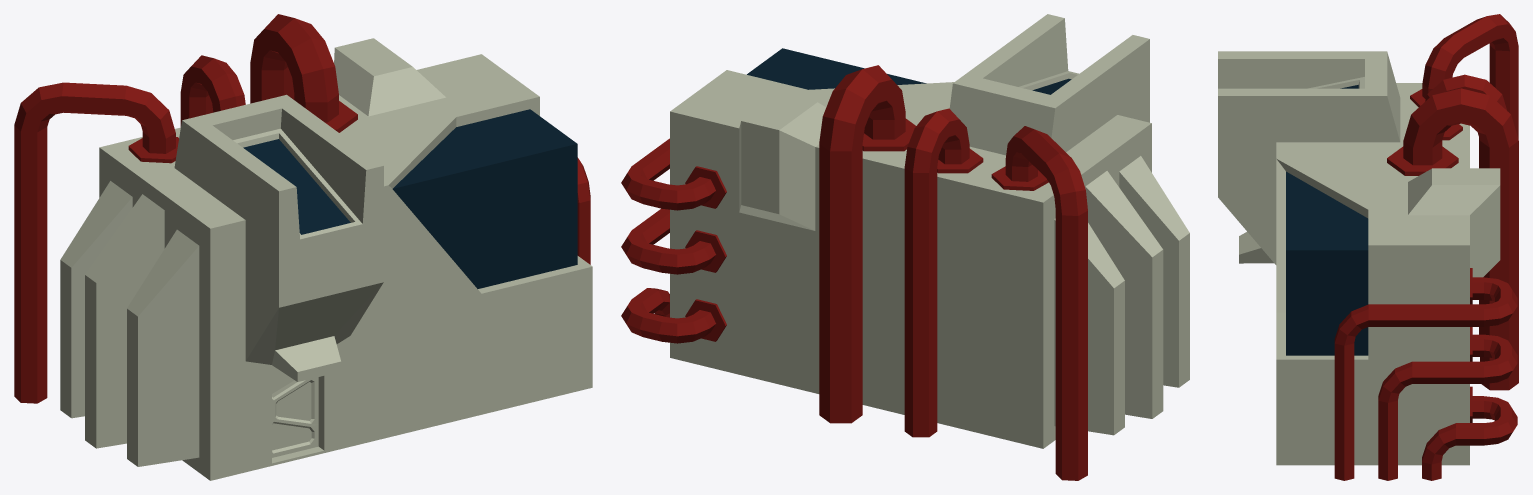
File: House 8.fbx
3 renders of one model, left to right at view 1: azimuth 30°, elevation 25°; view 2: azimuth 150°, elevation 25°; view 3: azimuth 270°, elevation 25°, orthographic. The views are drawn at different scales.
Visible parts, largest first — view 1: H8; view 2: H8; view 3: H8.
Boxes of the visible parts, bbox=[...] form: H8: bbox=[14, 14, 592, 480]; H8: bbox=[621, 14, 1189, 480]; H8: bbox=[1218, 14, 1518, 480].
Bounding box in the file's own units: 1000 × 672 × 620.
